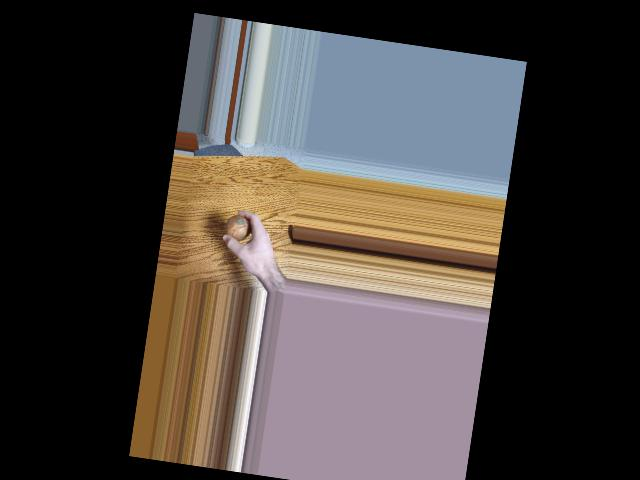onion: (224, 212, 256, 246)
